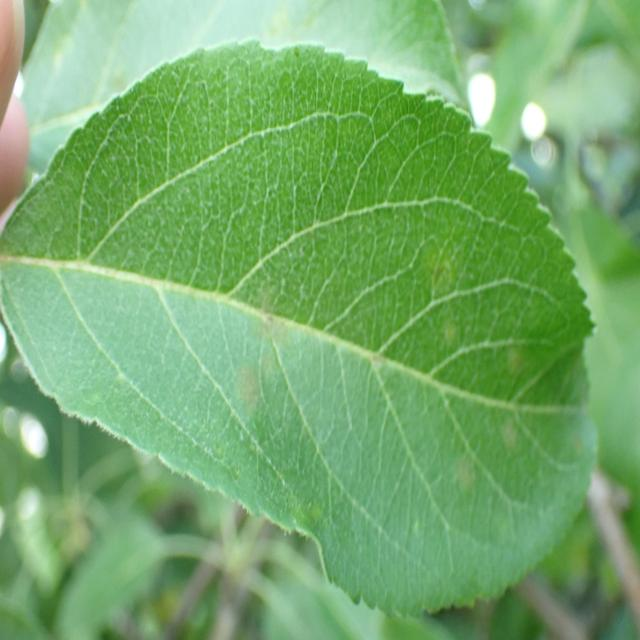scab: (110, 189, 586, 562)
